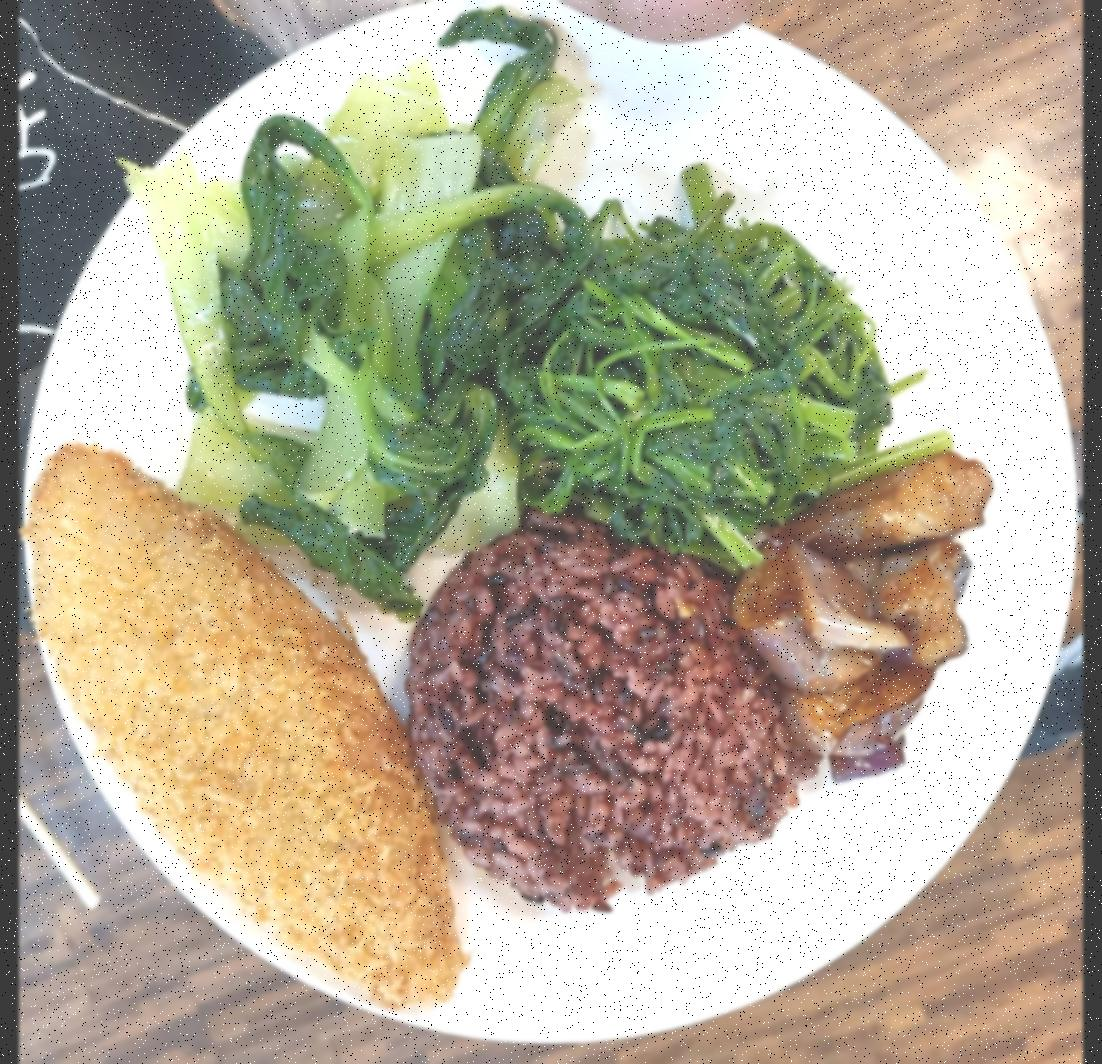fried cod steak: (24, 445, 474, 1015)
plate: (24, 0, 1079, 1043)
purple rice: (414, 533, 784, 895)
side dish: (150, 27, 564, 579), (514, 214, 882, 542), (734, 455, 984, 785)
